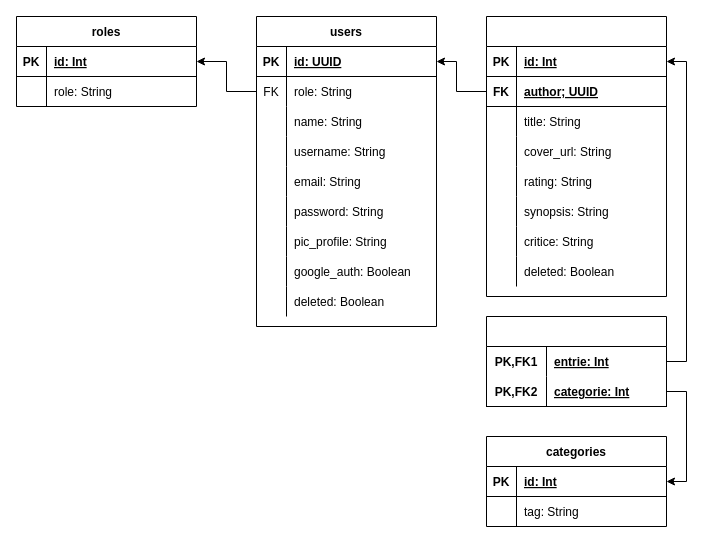
Image size: 703x543. Some labels were removed from this diagram. The box of each missing label's shape, as (x1, y1, x2, y2) in pixels:
entrie_categories: (486, 316, 666, 406)
entries: (486, 16, 666, 296)
